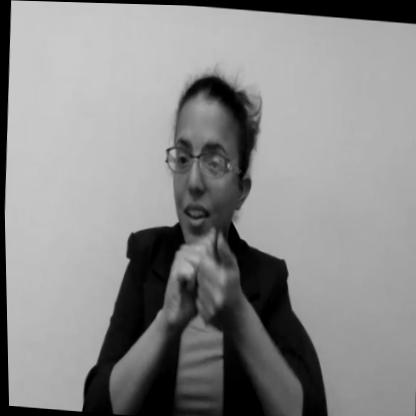HowAreYou: (145, 215, 253, 334)
